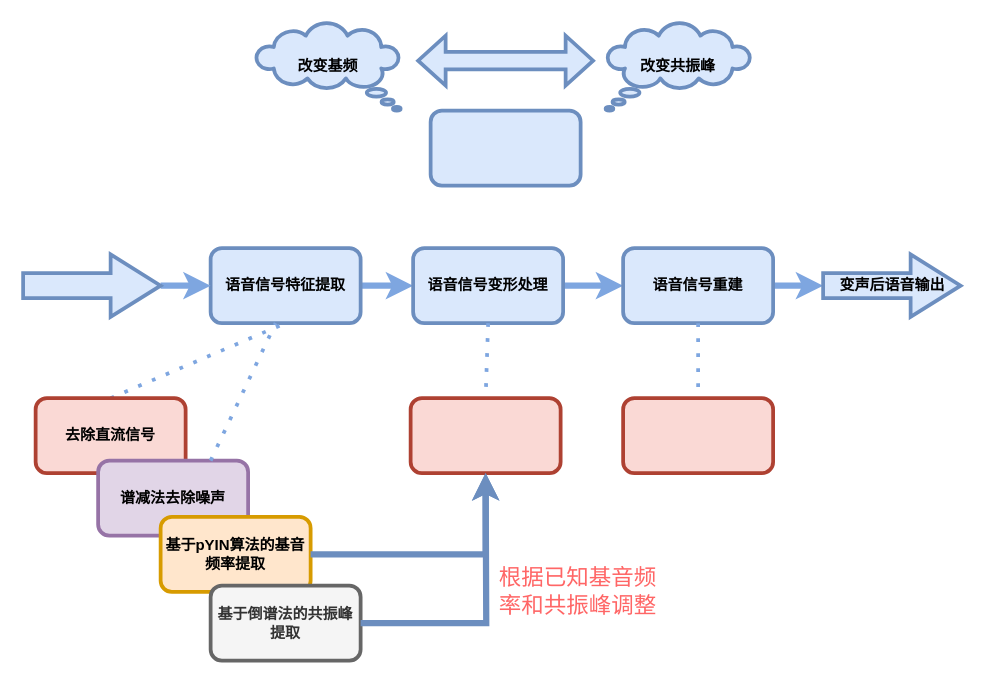
Some shapes in this 984 by 684 pixel diagram are drawn without their labels. The centre of each missing label's shape, as x and y in pixels:
原始语音输入: the point at 91,285
基于WSOLA算法的语音信号重建: the point at 697,435
语音特效变声: the point at 505,147
调整基频和共振峰: the point at 485,435
需要保持独立变化: the point at 505,60
